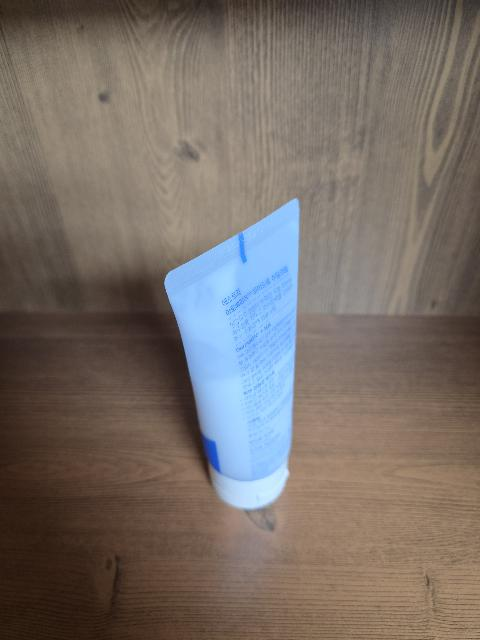handcream: (164, 198, 300, 509)
